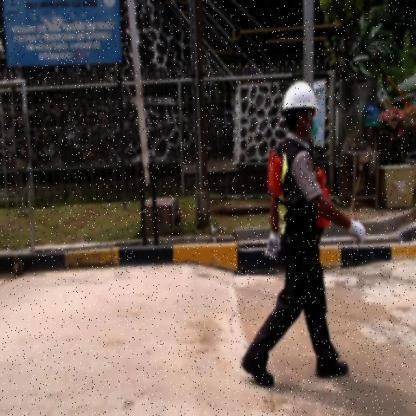boots: (240, 349, 278, 389), (314, 356, 350, 384)
gloves: (344, 215, 368, 249), (264, 230, 280, 262)
helmet: (282, 80, 322, 112)
mask: (308, 117, 319, 140)
vest: (264, 149, 336, 231)
